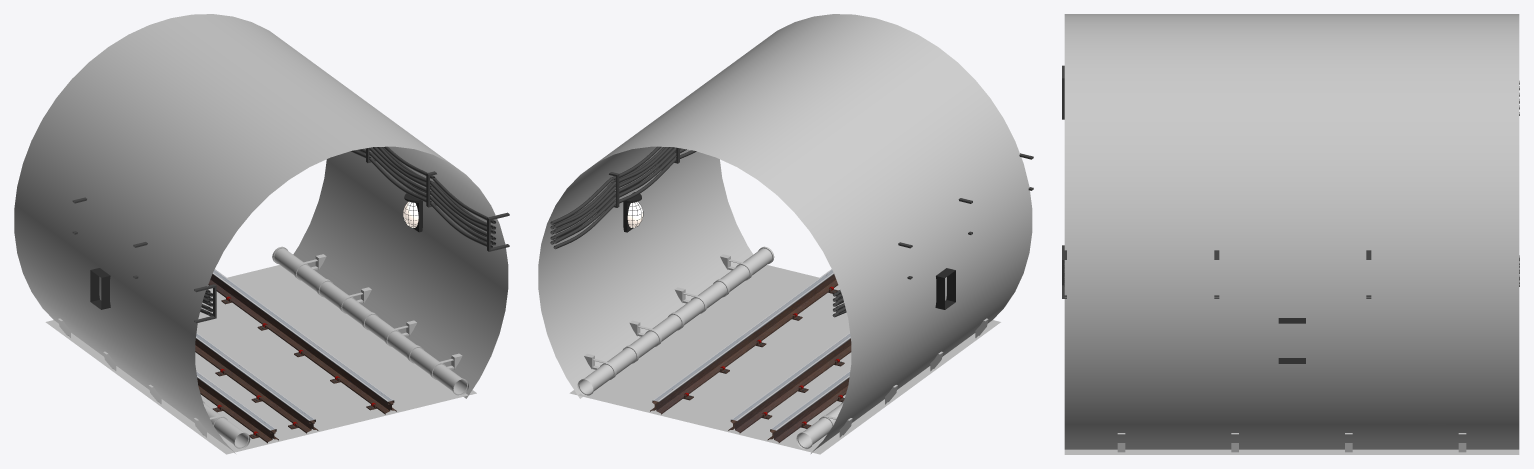
Rendered from railway_underground_game_ready.fbx.
3 views of the same model, side by side, from view 1: azimuth 30°, elevation 25°; view 2: azimuth 150°, elevation 25°; view 3: azimuth 270°, elevation 25° (orthographic). The views are drawn at different scales.
Visible parts, largest first — view 1: tunnel, grond_tunnel, pipeline, Cube.001, rail.001, rail.000, rail.002, Sphere.000; view 2: tunnel, grond_tunnel, pipeline, Cube.001, rail.001, rail.000, rail.002, Sphere.000; view 3: tunnel, grond_tunnel, Cube.001.
Boxes of the visible parts, left/top/right/bottom form: tunnel: left=14, top=14, right=508, bottom=453; grond_tunnel: left=45, top=265, right=476, bottom=454; pipeline: left=58, top=246, right=468, bottom=449; Cube.001: left=72, top=146, right=509, bottom=323; rail.001: left=208, top=269, right=396, bottom=414; rail.000: left=195, top=332, right=318, bottom=433; rail.002: left=196, top=370, right=278, bottom=443; Sphere.000: left=90, top=191, right=422, bottom=309; tunnel: left=538, top=14, right=1032, bottom=453; grond_tunnel: left=569, top=265, right=1000, bottom=454; pipeline: left=577, top=246, right=988, bottom=449; Cube.001: left=550, top=146, right=1033, bottom=317; rail.001: left=650, top=269, right=838, bottom=414; rail.000: left=728, top=332, right=851, bottom=433; rail.002: left=767, top=370, right=850, bottom=442; Sphere.000: left=623, top=192, right=955, bottom=309; tunnel: left=1064, top=14, right=1519, bottom=449; grond_tunnel: left=1064, top=449, right=1519, bottom=454; Cube.001: left=1062, top=65, right=1519, bottom=298.
Size of the model in its own units: 843 by 673 by 806.
